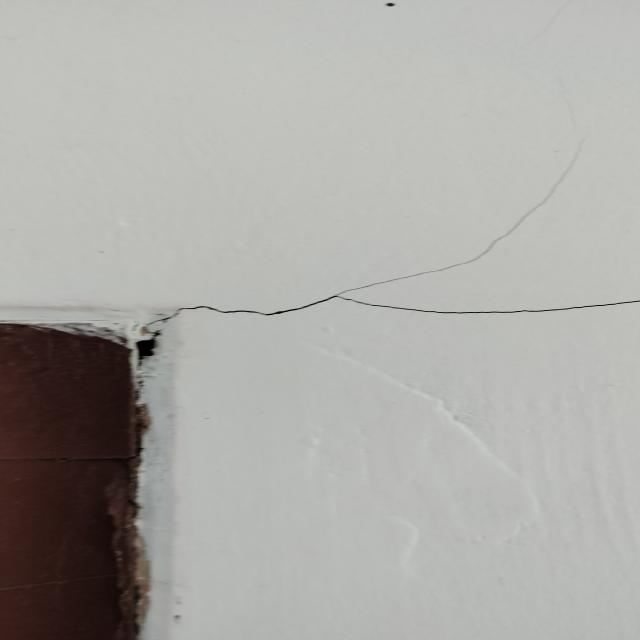Crack: (166, 101, 640, 327)
